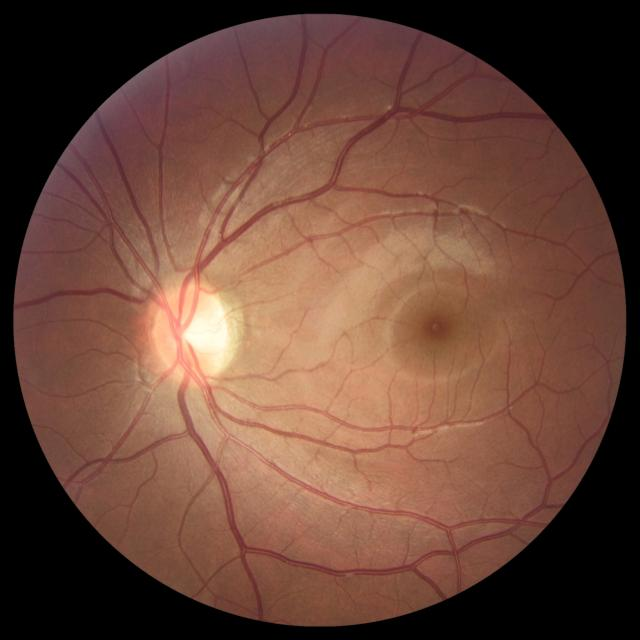OC: (182, 302, 228, 362)
OD: (148, 278, 230, 381)
